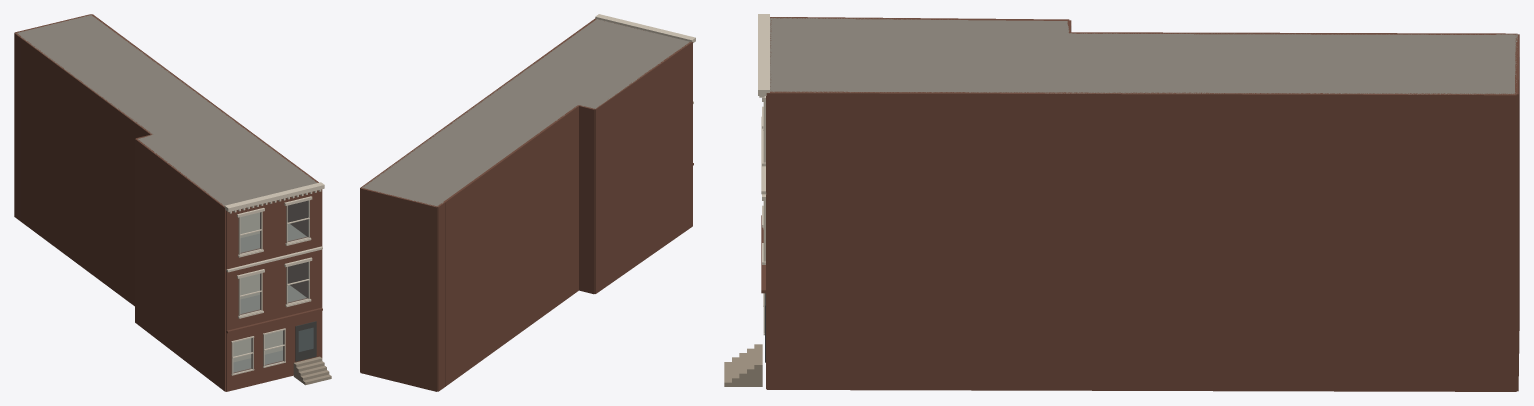
3 renders of one model, left to right at view 1: azimuth 30°, elevation 25°; view 2: azimuth 150°, elevation 25°; view 3: azimuth 270°, elevation 25°, orthographic. The views are drawn at different scales.
Parts seen in each view (by area): view 1: Shell, Roof, Facade floor 0, Facade floor 1, Facade floor 2, Floor 0, Cornice, Floor 1, Floor 2; view 2: Shell, Roof, Cornice; view 3: Shell, Roof, Facade floor 0, Cornice.
Part boxes in pixels (bbox=[...]): Shell: bbox=[14, 14, 322, 391]; Roof: bbox=[16, 14, 317, 206]; Facade floor 0: bbox=[226, 307, 331, 391]; Facade floor 1: bbox=[226, 246, 322, 330]; Facade floor 2: bbox=[226, 189, 321, 269]; Floor 0: bbox=[233, 330, 282, 372]; Cornice: bbox=[224, 182, 324, 213]; Floor 1: bbox=[240, 274, 306, 313]; Floor 2: bbox=[240, 212, 306, 252]; Shell: bbox=[360, 18, 692, 391]; Roof: bbox=[362, 19, 689, 206]; Cornice: bbox=[595, 14, 695, 42]; Shell: bbox=[766, 17, 1519, 391]; Roof: bbox=[770, 17, 1517, 94]; Facade floor 0: bbox=[724, 215, 766, 388]; Cornice: bbox=[758, 14, 769, 97].
Size of the model in its own units: 6.46 by 11.51 by 27.67.
